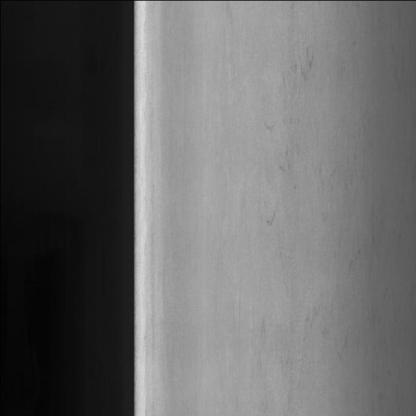silk_spot: (253, 29, 363, 349)
